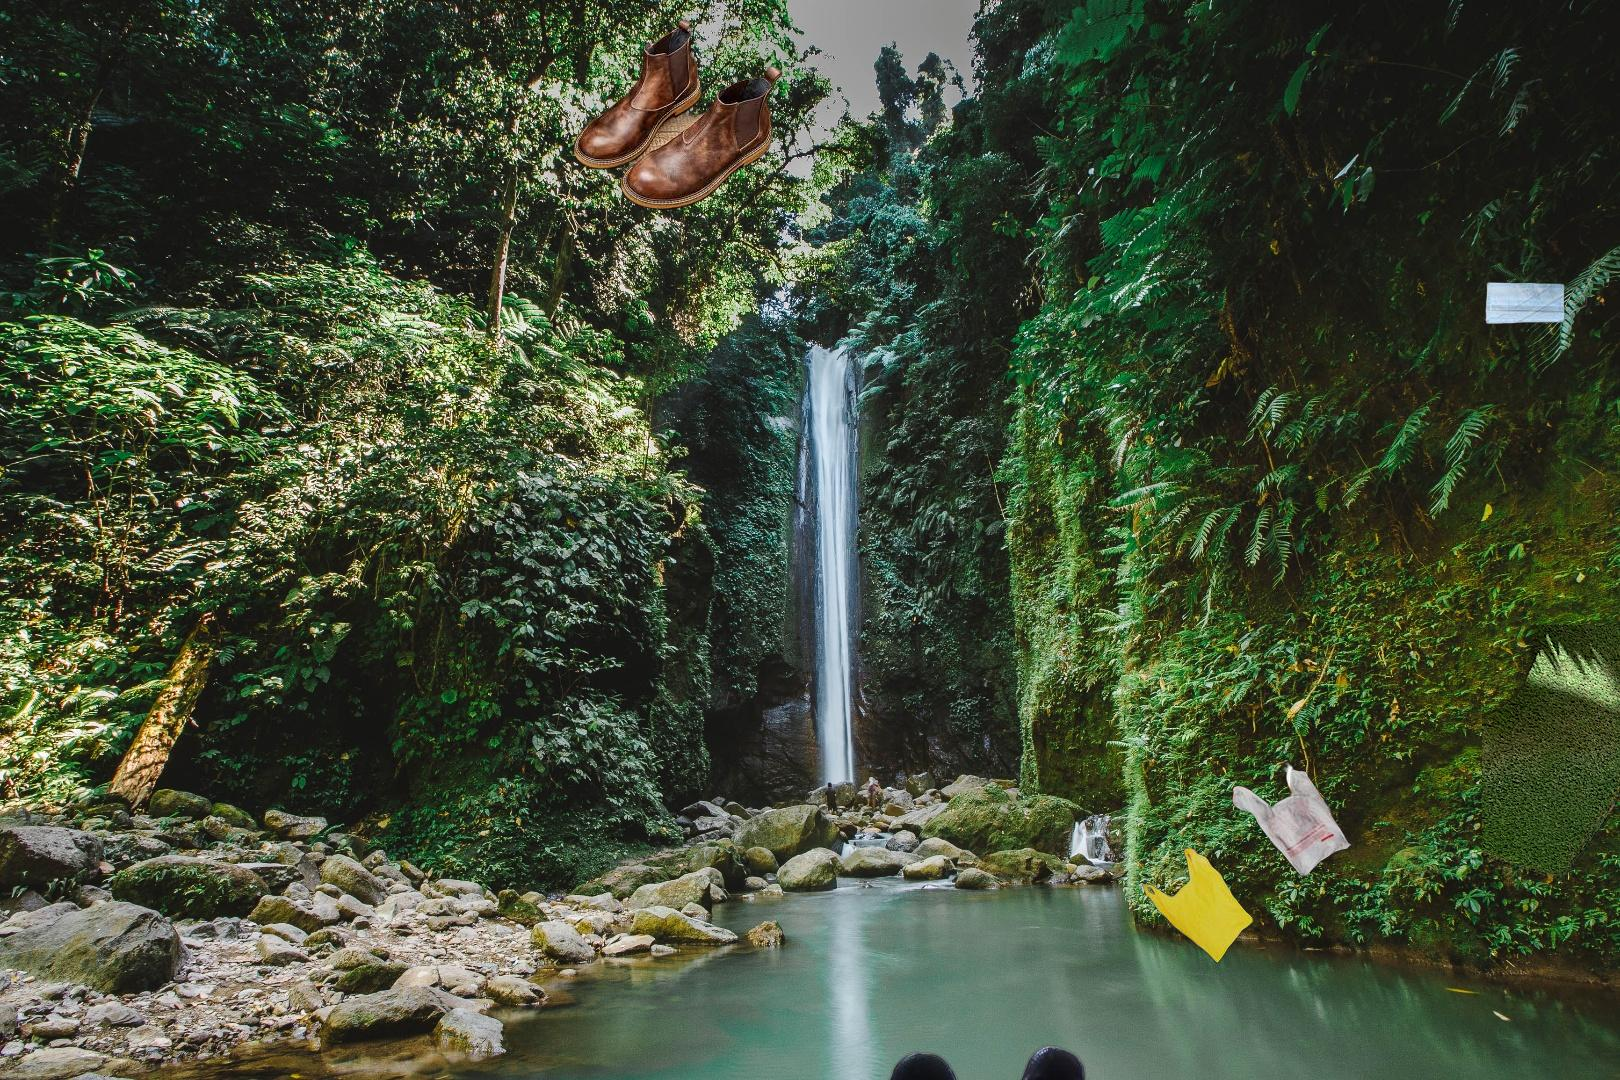glass: (1483, 626, 1620, 986)
plastic-bag: (1140, 751, 1360, 965)
shoes: (571, 2, 785, 212), (851, 1041, 1122, 1080)
trash: (1463, 278, 1589, 327)
